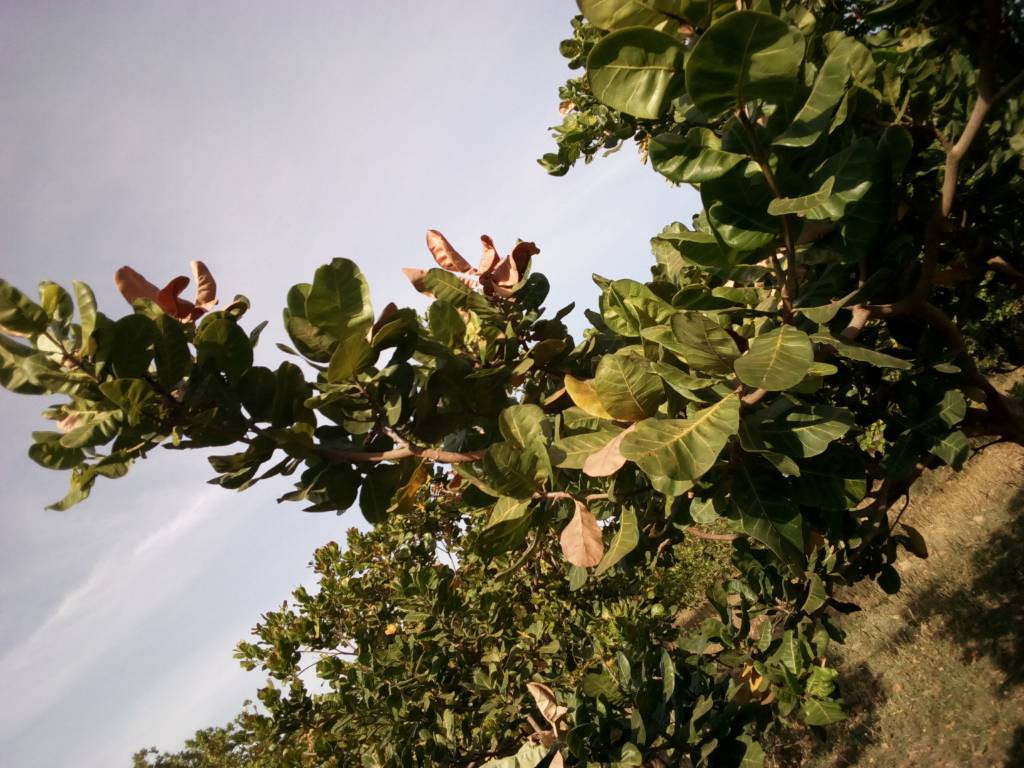Helopeltis anacardii: (617, 389, 740, 477), (586, 30, 696, 120), (770, 142, 880, 220), (651, 132, 760, 184), (306, 258, 371, 342), (97, 372, 161, 430), (487, 440, 532, 493), (1, 292, 50, 334)
